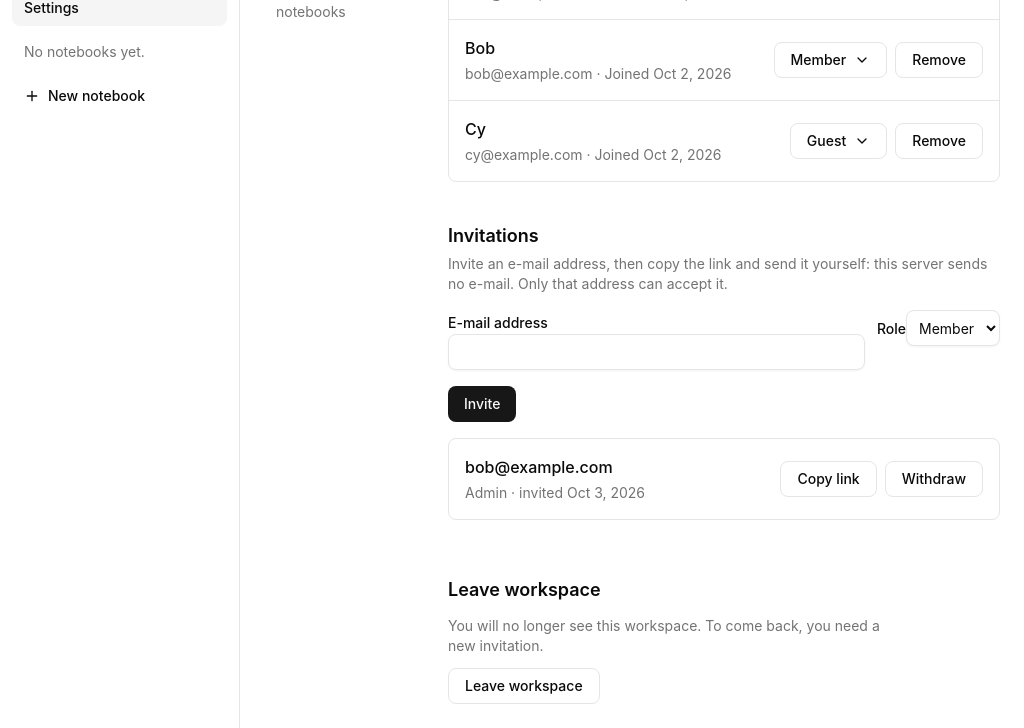
Test case: the only admin cannot leave: the dialog says why, and the workspace stays: notebook.sole_admin
(page scrolled)
Click the button "Leave workspace".
click(524, 686)  # box [448, 668, 600, 704]
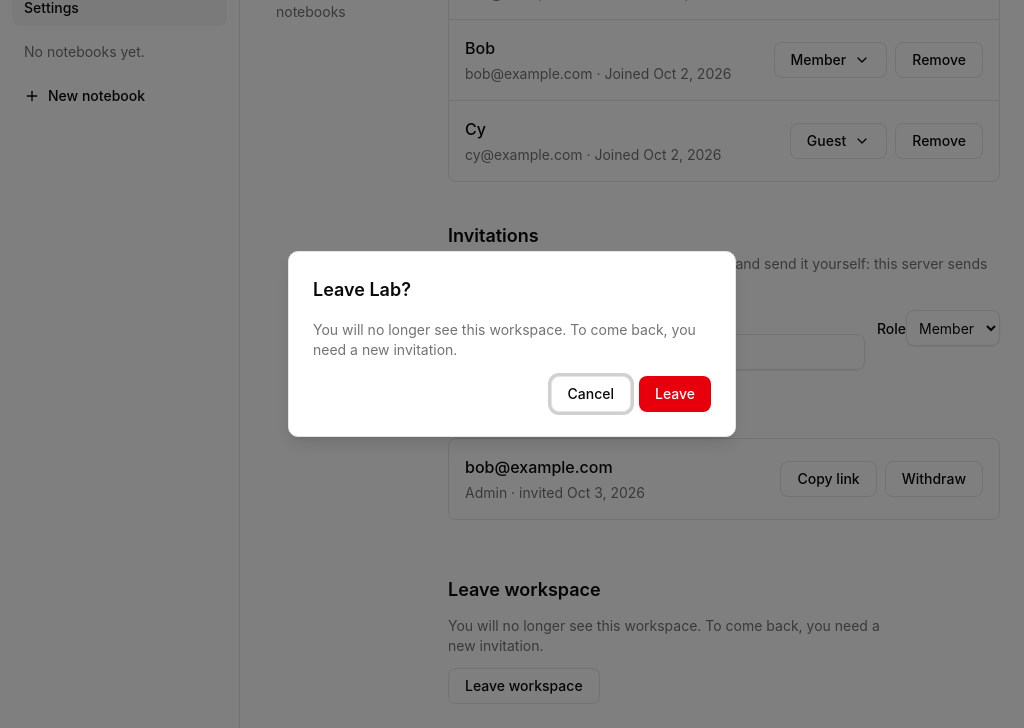
Click the button "Leave".
click(675, 394)  # box [639, 376, 711, 412]
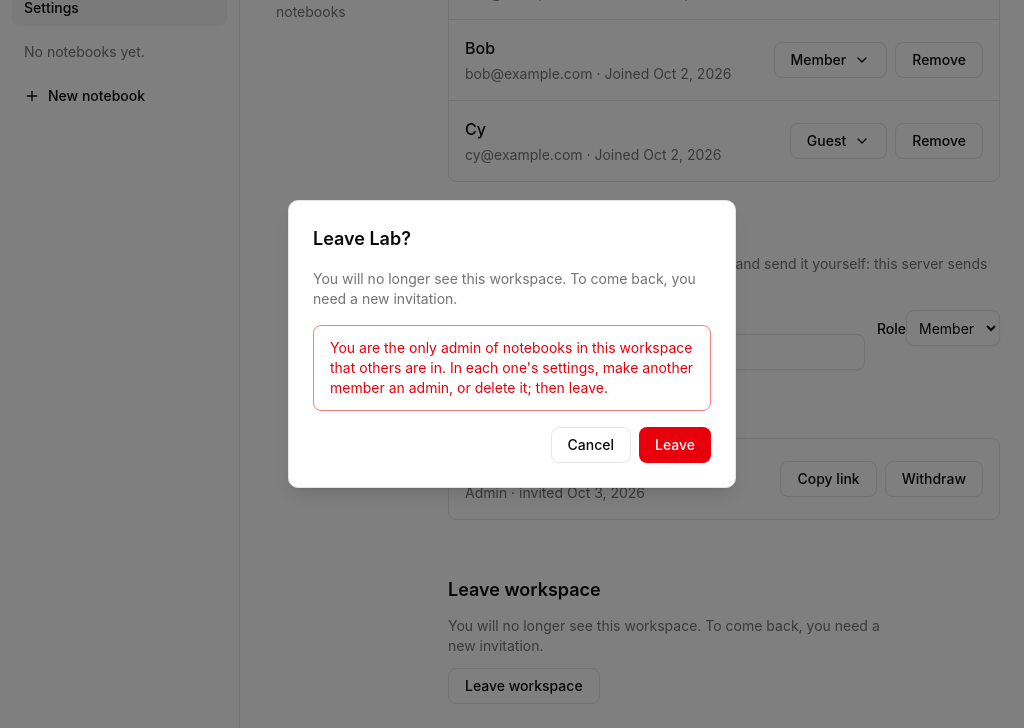
Check: the message shows "You are the only admin of notebooks in this workspace that others are in. In each one's settings, make another member an admin, or delete it; then leave.", box [330, 339, 693, 396]
